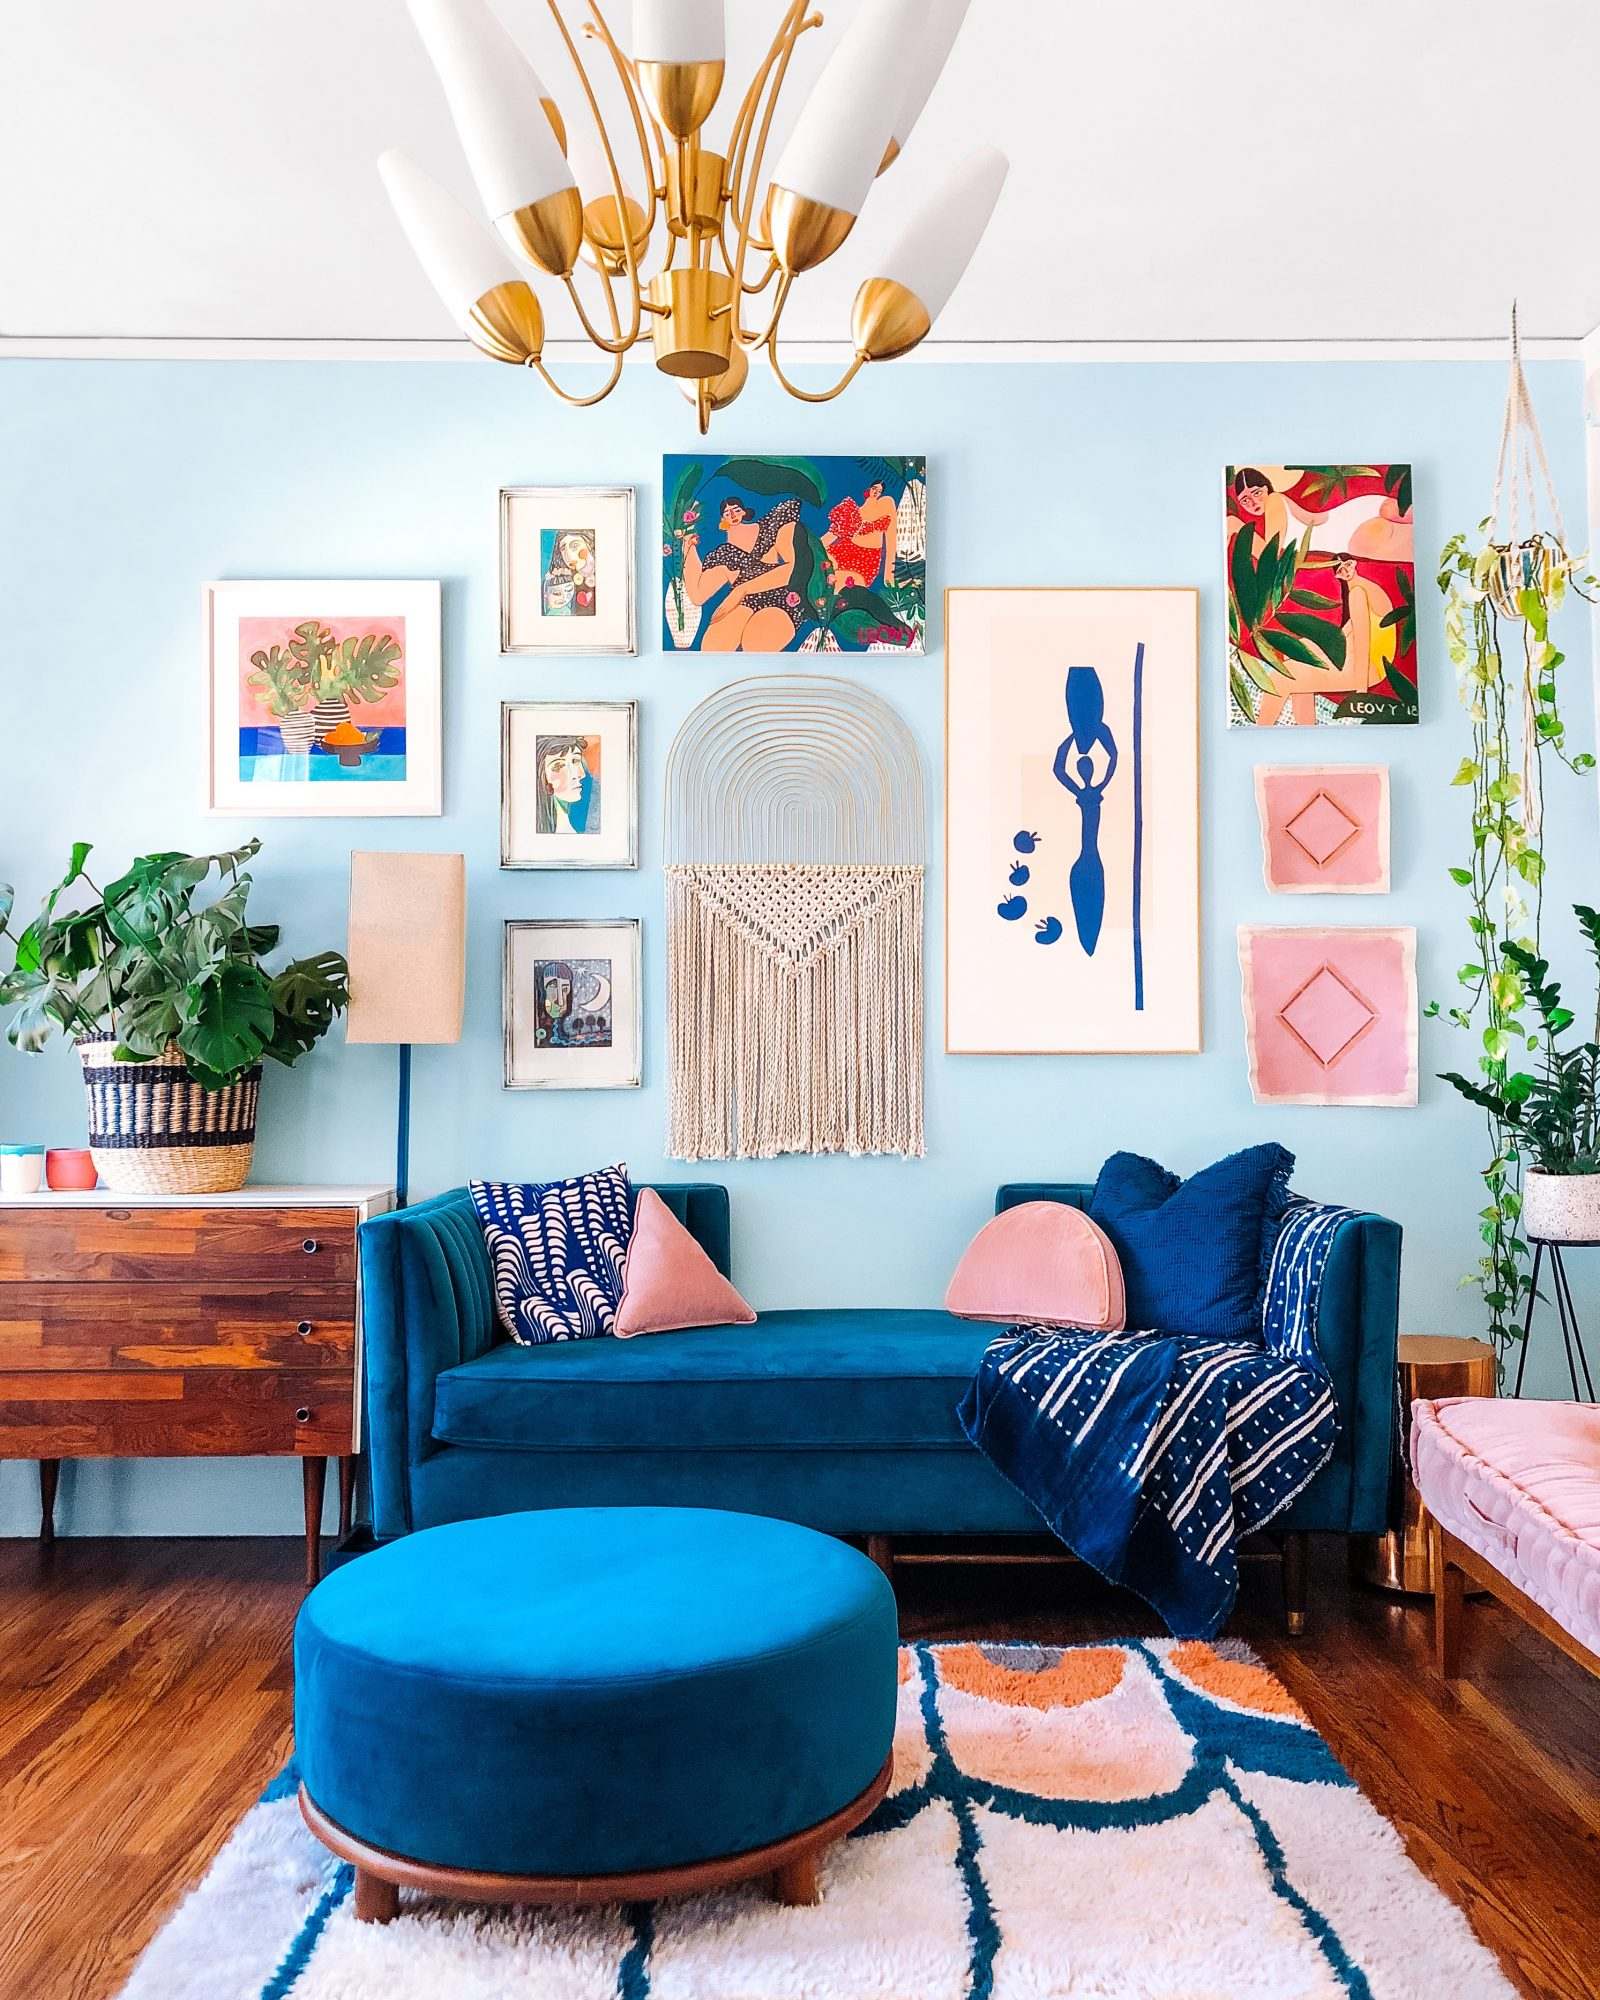biru: (287, 1513, 901, 1843), (758, 1314, 1389, 1538), (1127, 1141, 1389, 1329)
pink: (1414, 1396, 1600, 1636), (942, 1215, 1125, 1332), (614, 1216, 766, 1340)
